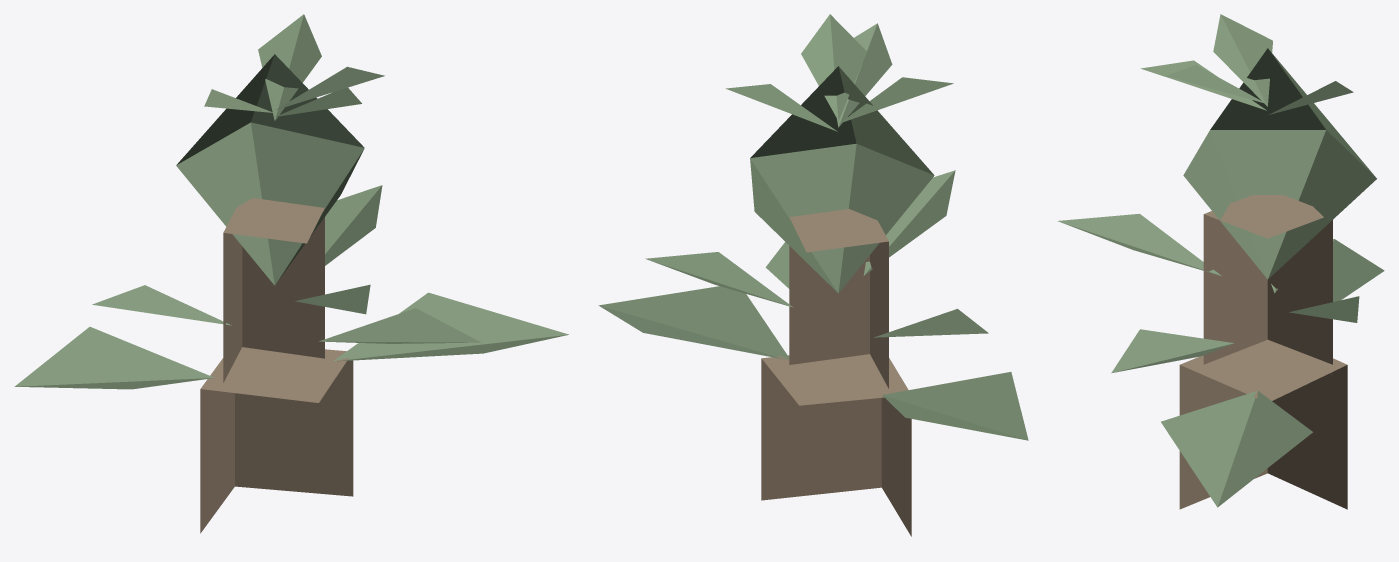
File: shui.kucao@seedling__autumn.glb
3 views of the same model, side by side, from view 1: azimuth 30°, elevation 25°; view 2: azimuth 150°, elevation 25°; view 3: azimuth 270°, elevation 25° (orthographic).
Visible parts, largest first — view 1: shui.kucao@seedling__autumn; view 2: shui.kucao@seedling__autumn; view 3: shui.kucao@seedling__autumn.
Part boxes in pixels (<box>): shui.kucao@seedling__autumn: <box>14,14,568,533</box>; shui.kucao@seedling__autumn: <box>598,14,1028,536</box>; shui.kucao@seedling__autumn: <box>1058,14,1384,509</box>.
Size of the model in its own units: 0.1065 by 0.0948 by 0.0609.
